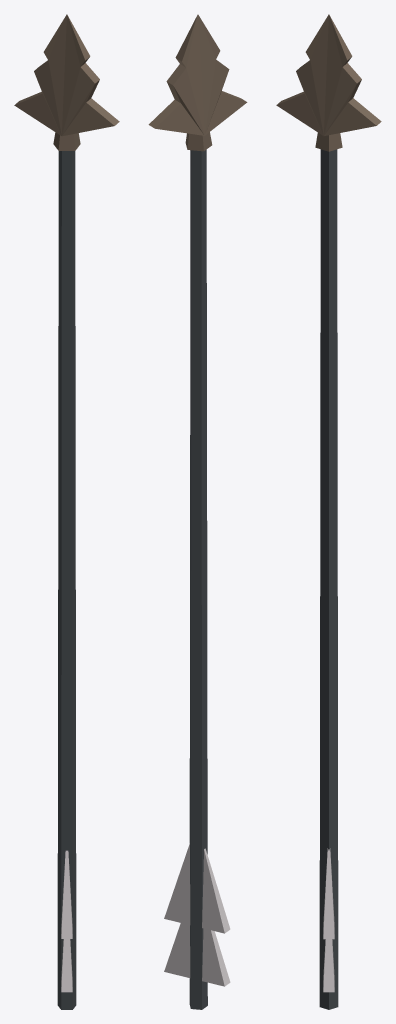
The model's file is _arrow_b_16.glb.
3 renders of one model, left to right at view 1: azimuth 90°, elevation 25°; view 2: azimuth 150°, elevation 25°; view 3: azimuth 270°, elevation 25°, orthographic.
Parts seen in each view (by area): view 1: arrow_b_16; view 2: arrow_b_16; view 3: arrow_b_16.
Boxes of the visible parts, x1,y1,x2,y2 form: arrow_b_16: (14, 14, 119, 1009); arrow_b_16: (148, 14, 247, 1009); arrow_b_16: (276, 14, 381, 1009).
Size of the model in its own units: 1243 by 19398 by 1871.
Materials: 1 (1 with a texture image).
